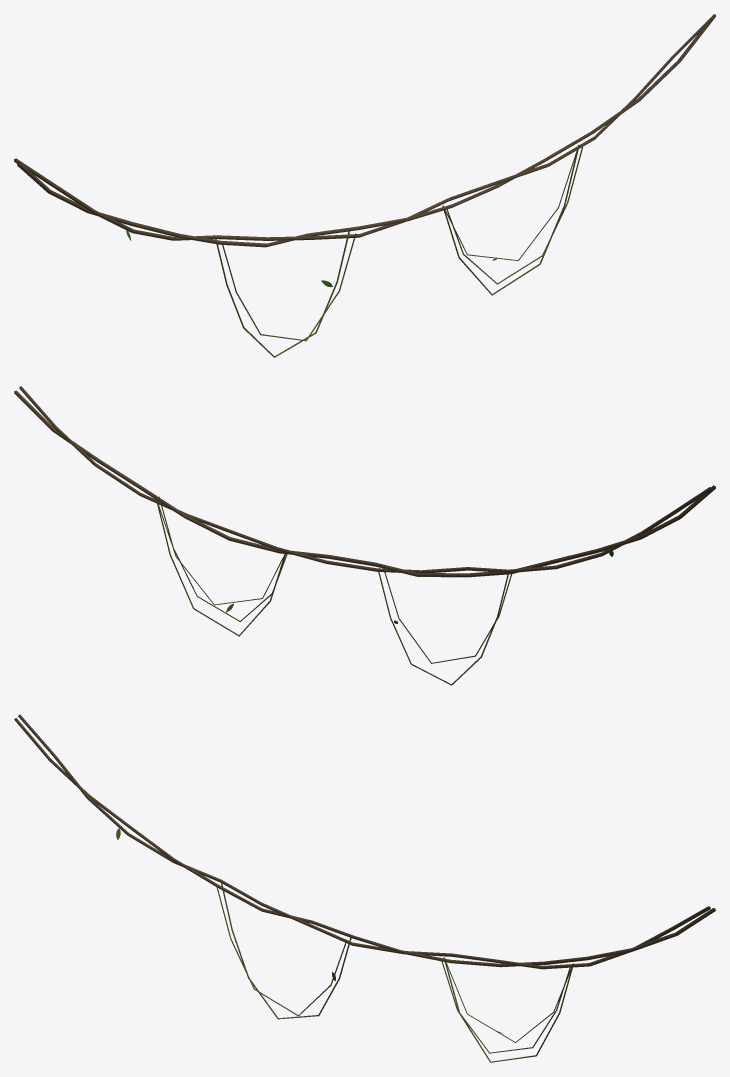
Rendered from liana_span_thorn_03_lod2.gltf.
The picture shows the model from 3 angles, top to bottom: view 1: azimuth 30°, elevation 25°; view 2: azimuth 150°, elevation 25°; view 3: azimuth 330°, elevation 25°; orthographic projection. The views are drawn at different scales.
Visible parts, largest first — view 1: liana_span_thorn_03; view 2: liana_span_thorn_03; view 3: liana_span_thorn_03.
Part boxes in pixels (x1,y1,x2,y2): liana_span_thorn_03: (14, 14, 715, 357); liana_span_thorn_03: (14, 386, 715, 685); liana_span_thorn_03: (14, 714, 715, 1062).
Bounding box in the file's own units: 6.03 × 2.16 × 0.4884.
Materials: 3 (3 with a texture image).
